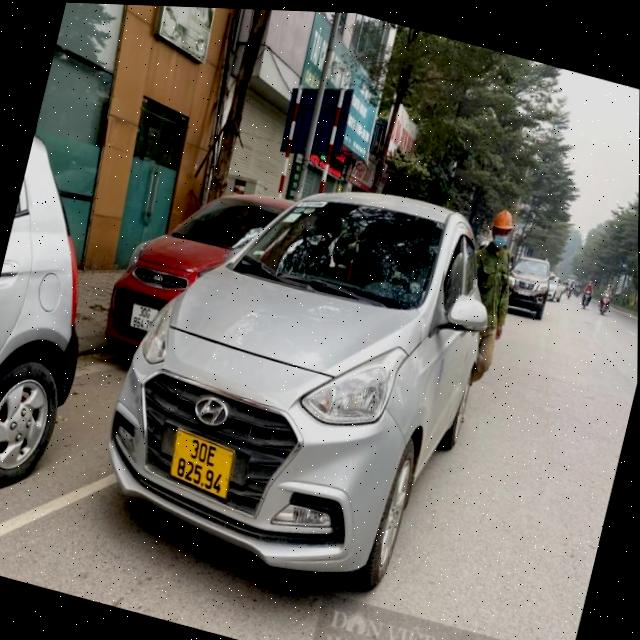car: (79, 127, 525, 618), (0, 117, 139, 538), (501, 248, 559, 322)
motorcycle: (575, 286, 595, 312)
plate: (160, 423, 243, 503)
